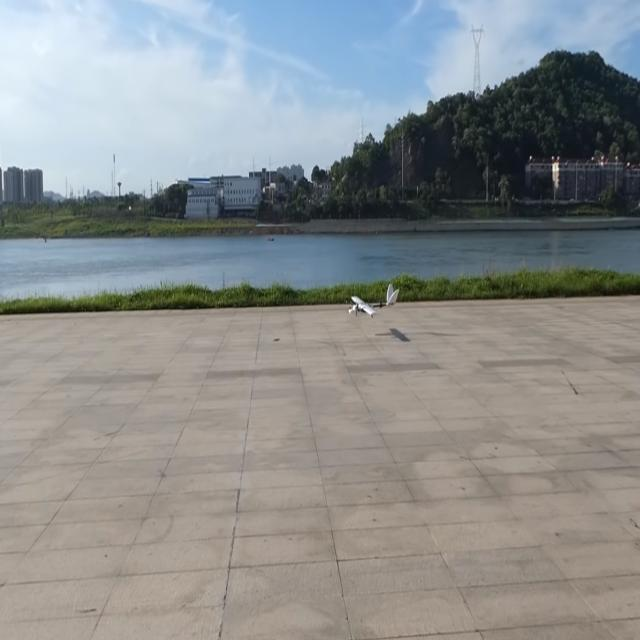iha: (348, 283, 400, 324)
